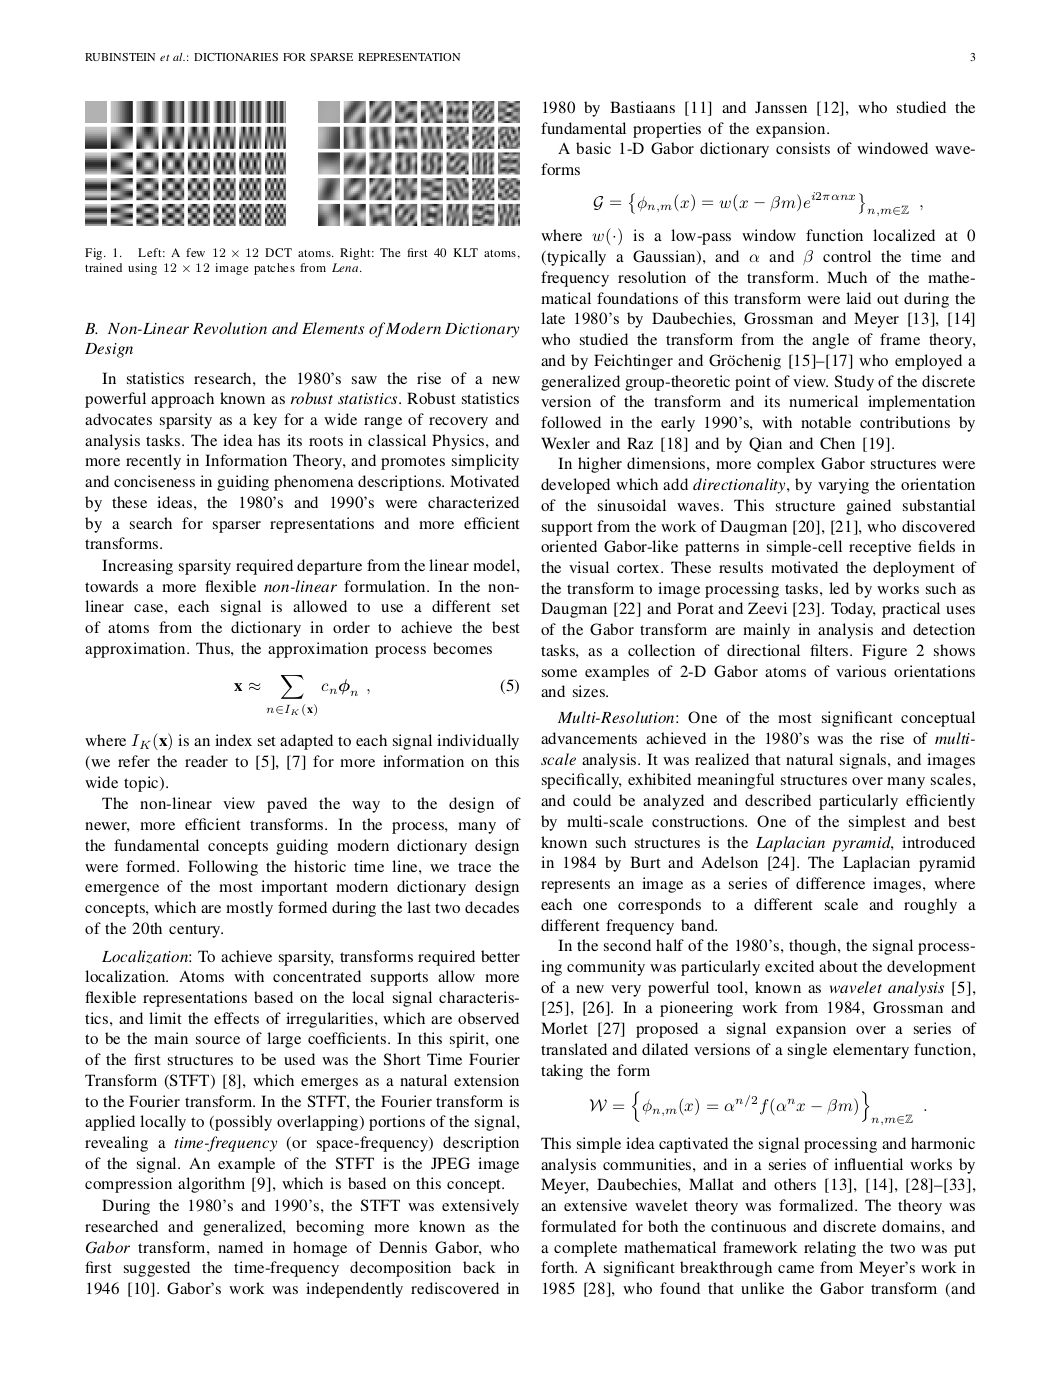figure: (318, 101, 519, 225), (85, 101, 285, 225)
formula: (588, 1090, 926, 1126), (234, 675, 518, 715), (593, 191, 922, 217)
